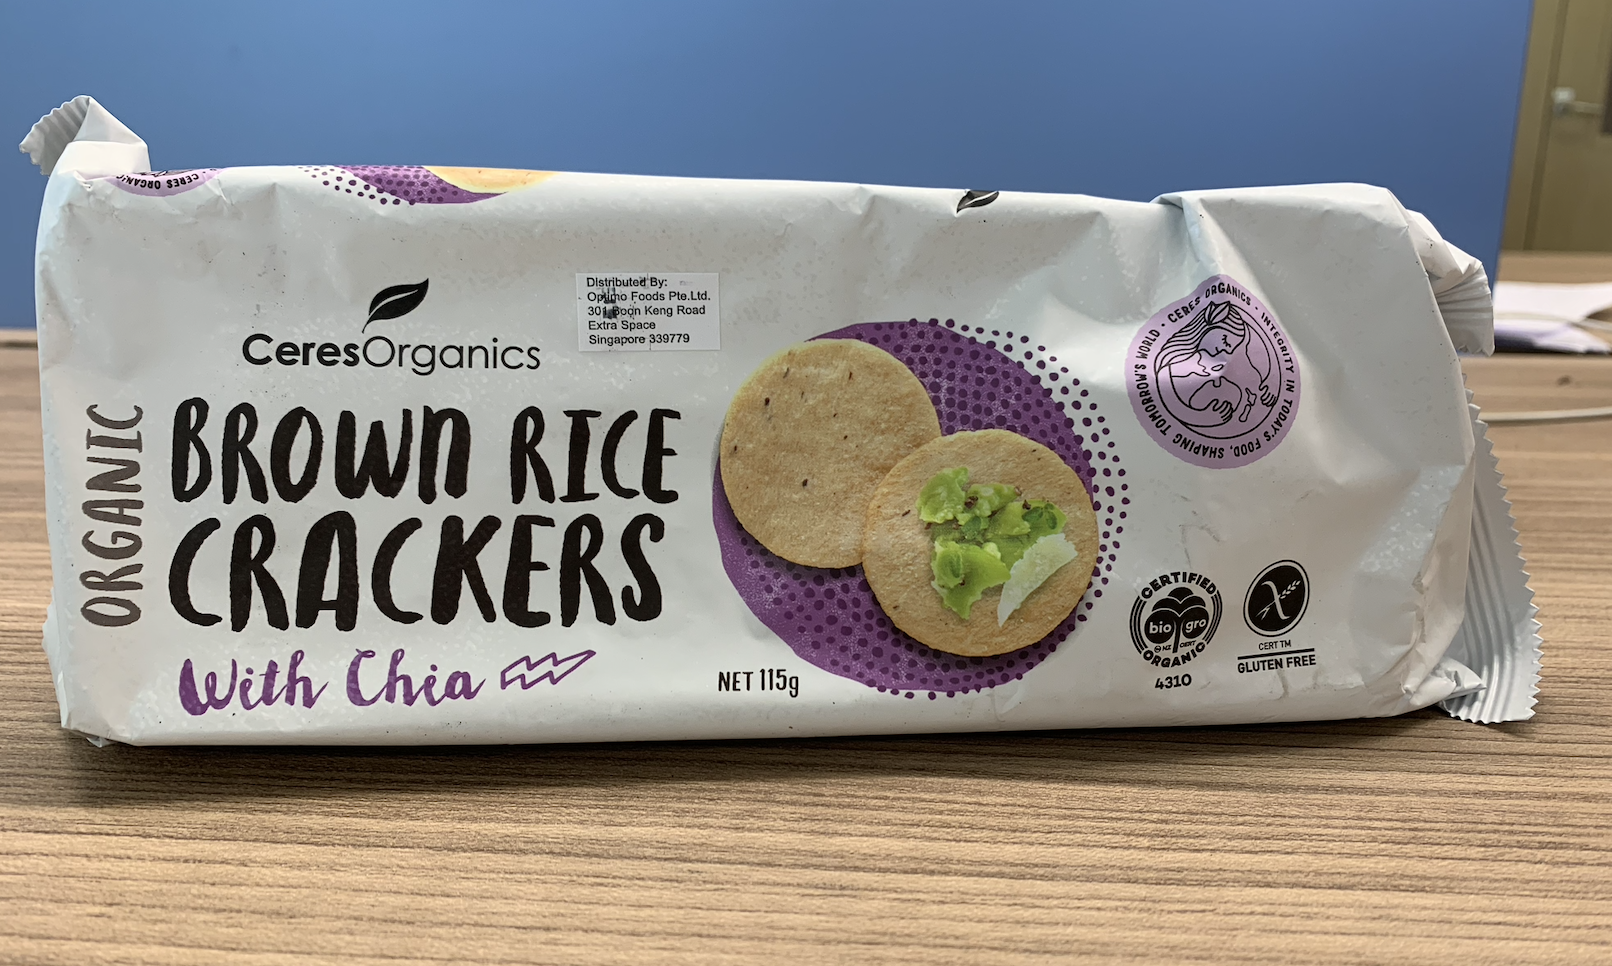crackers_150g: (75, 204, 1464, 722)
